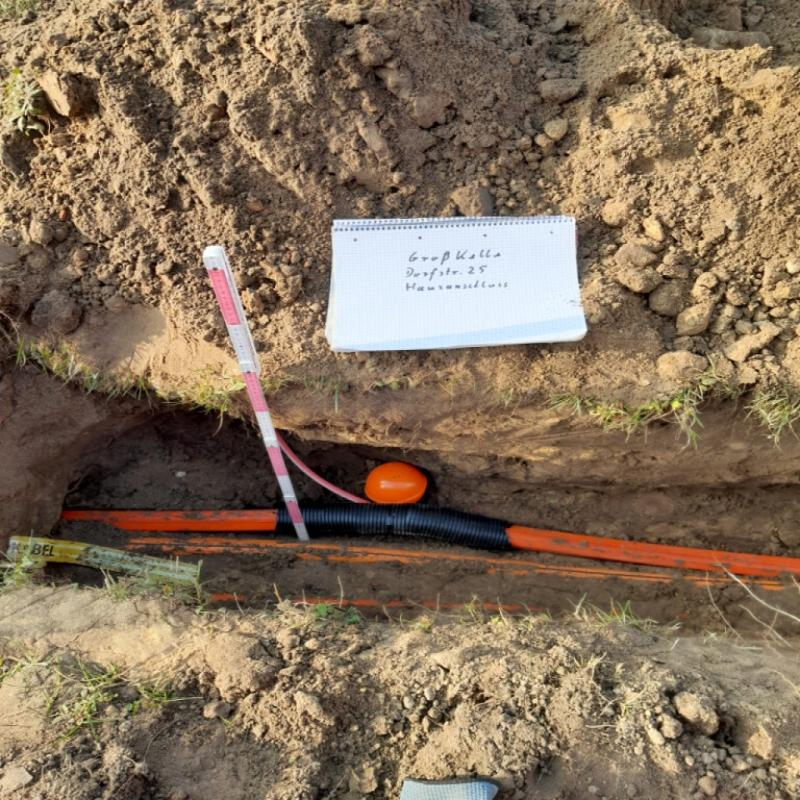Kugelmarker: (366, 465, 427, 505)
Orang-Speednetrohrchen: (73, 504, 800, 579), (127, 539, 781, 592)
